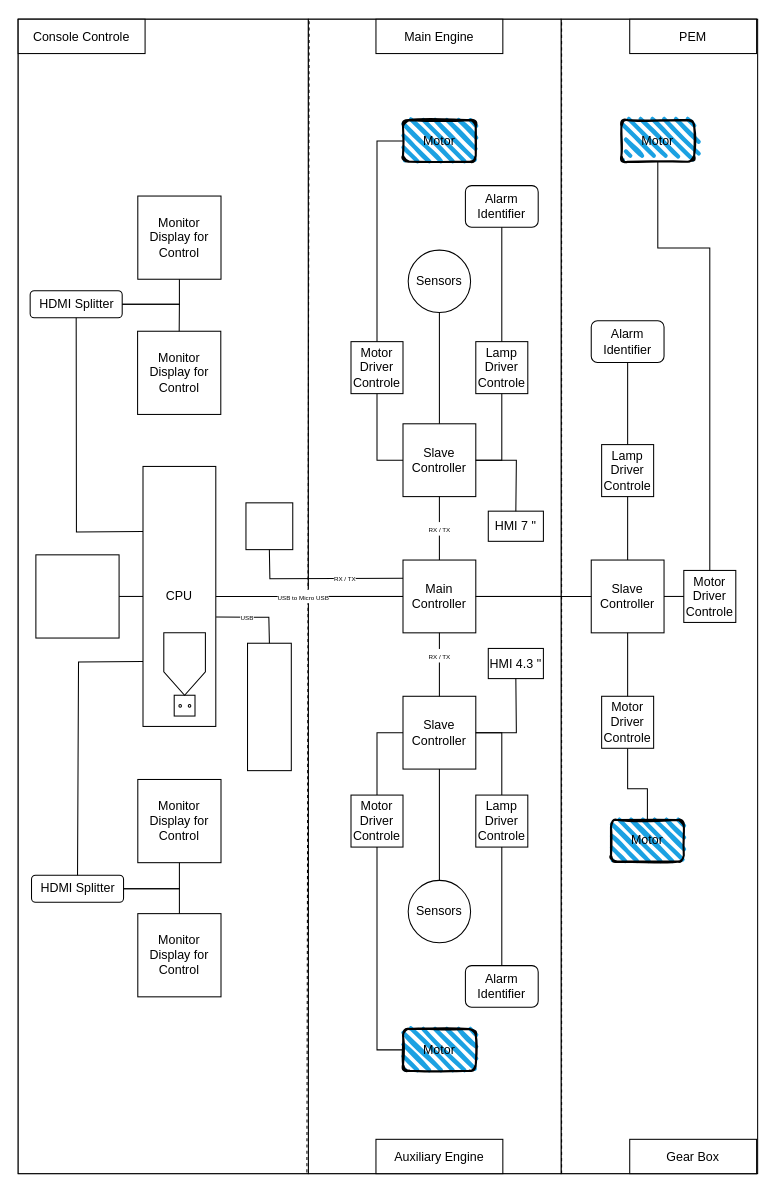
Some shapes in this 776 by 1194 pixel diagram are drawn without their labels. Here are the shapes that lost their labels. From the top down, the centre of each, then its label:
At (269,526): "Throtlle".
At (77,596): "Monitor Display for map location".
At (184,663): "Supplied by 220V AC".
At (268,706): "Keyboard and mouse".
